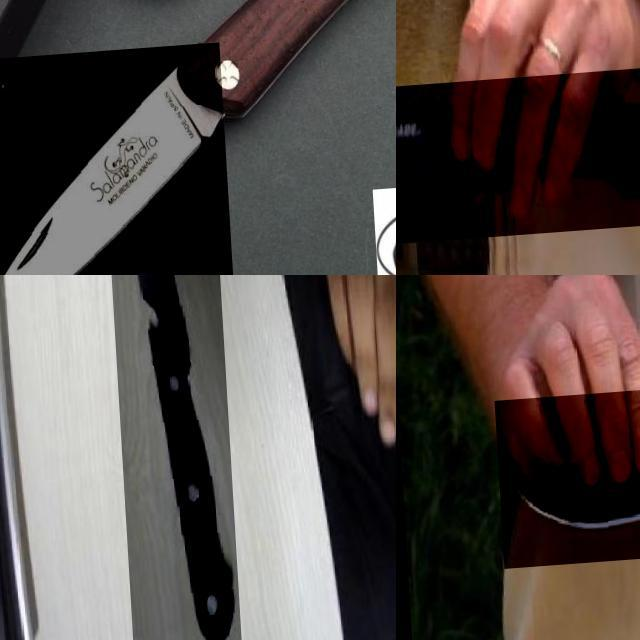-: (0, 47, 228, 275), (100, 275, 234, 640), (396, 75, 640, 261), (491, 373, 640, 570)
